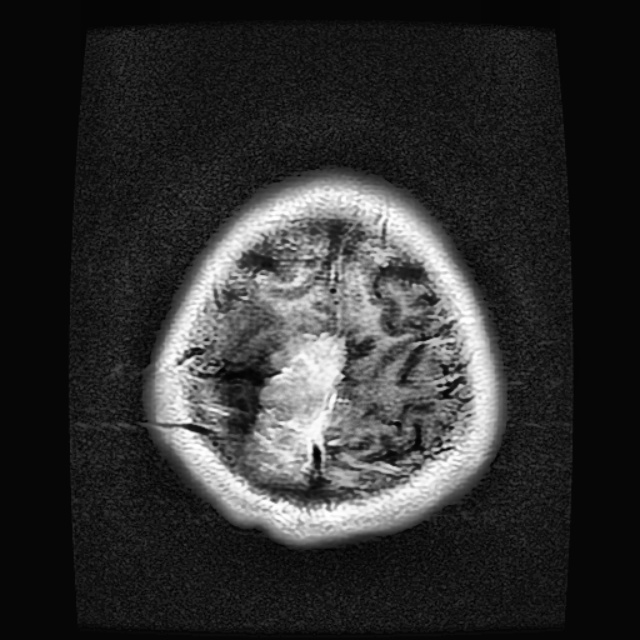Pituitary: (245, 334, 343, 485)
